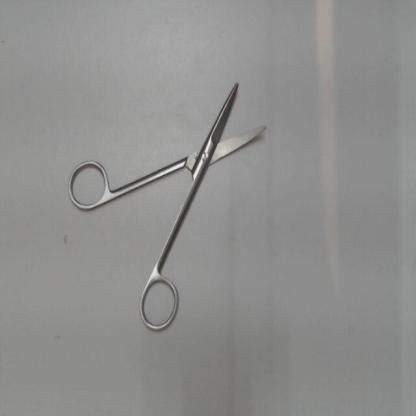Curved Mayo Scissors: (64, 70, 273, 340)
